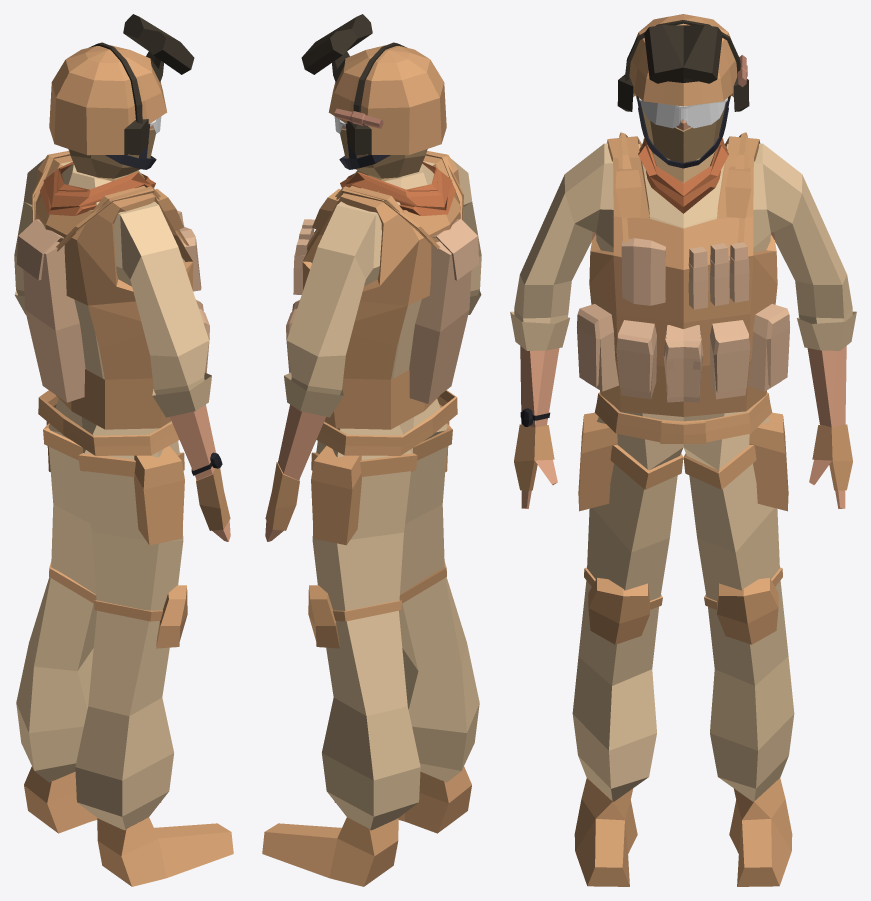
The model's file is soldier.glb.
3 renders of one model, left to right at view 1: azimuth 30°, elevation 25°; view 2: azimuth 150°, elevation 25°; view 3: azimuth 270°, elevation 25°, orthographic. The views are drawn at different scales.
Parts seen in each view (by area): view 1: Pants_6, Shirt_0, Vest_4, Helmet_1, Shoes_7, Bag_13, Pads_10, Belt_5, Scarf_2, Gloves_3, Mask_9, Pouches_14; view 2: Pants_6, Shirt_0, Vest_4, Helmet_1, Shoes_7, Bag_13, Pads_10, Belt_5, Scarf_2, Gloves_3, Mask_9, Pouches_14 (+1 smaller); view 3: Pants_6, Vest_4, Shirt_0, Helmet_1, Shoes_7, Pads_10, Pouches_14, Belt_5, Gloves_3, Mask_9, Scarf_2, Glasses_8.
Boxes of the visible parts, <box> form: Pants_6: <box>16,399,184,830</box>; Shirt_0: <box>14,125,230,541</box>; Vest_4: <box>32,151,209,429</box>; Helmet_1: <box>49,14,194,169</box>; Shoes_7: <box>24,766,233,886</box>; Bag_13: <box>16,219,85,402</box>; Pads_10: <box>43,423,187,648</box>; Belt_5: <box>38,390,179,455</box>; Scarf_2: <box>40,162,155,215</box>; Gloves_3: <box>196,468,230,530</box>; Mask_9: <box>68,128,155,192</box>; Pouches_14: <box>177,210,201,291</box>; Pants_6: <box>311,399,479,830</box>; Shirt_0: <box>265,125,481,541</box>; Vest_4: <box>286,151,463,429</box>; Helmet_1: <box>301,14,446,169</box>; Shoes_7: <box>262,766,471,886</box>; Bag_13: <box>409,219,479,403</box>; Pads_10: <box>308,423,452,648</box>; Belt_5: <box>316,390,457,455</box>; Scarf_2: <box>340,162,455,215</box>; Gloves_3: <box>265,462,299,530</box>; Mask_9: <box>340,128,427,192</box>; Pouches_14: <box>293,219,314,294</box>; Pants_6: <box>572,407,794,801</box>; Vest_4: <box>577,132,789,416</box>; Shirt_0: <box>510,120,856,508</box>; Helmet_1: <box>617,14,749,168</box>; Shoes_7: <box>574,778,792,886</box>; Pads_10: <box>584,444,782,644</box>; Pouches_14: <box>621,238,749,309</box>; Belt_5: <box>594,392,772,443</box>; Gloves_3: <box>514,424,852,490</box>; Mask_9: <box>635,94,731,182</box>; Scarf_2: <box>638,135,728,213</box>; Glasses_8: <box>639,98,727,128</box>.
Bounding box in the file's own units: 1.13 × 5.16 × 1.92.
